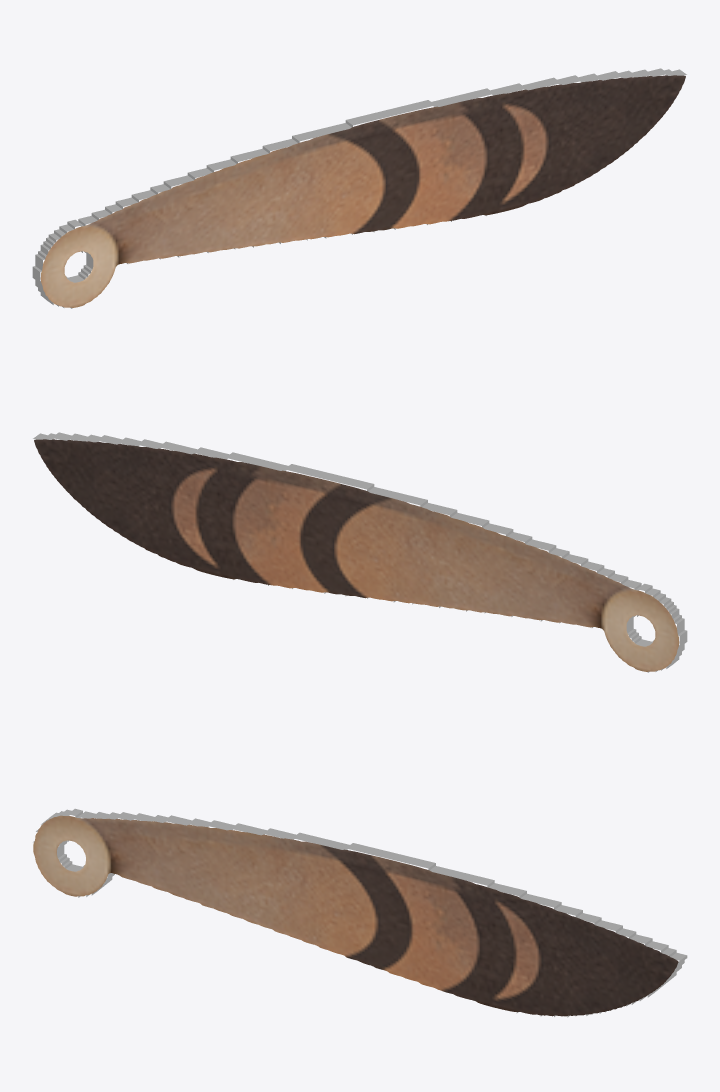
Rendered from FlightRight01.glb.
3 views of the same model, one above another, from view 1: azimuth 30°, elevation 25°; view 2: azimuth 150°, elevation 25°; view 3: azimuth 330°, elevation 25° (orthographic).
Visible parts, largest first — view 1: PaperVolume; view 2: PaperVolume; view 3: PaperVolume.
Part boxes in pixels (x1,y1,x2,y2): PaperVolume: (32,68,686,308); PaperVolume: (33,432,687,672); PaperVolume: (33,808,687,1017).
Bounding box in the file's own units: 4.22 × 0.96 × 0.08.
3 materials, 2 textured.
